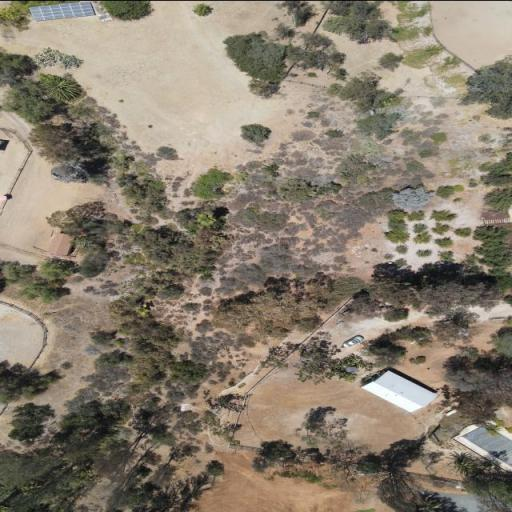solar-panel: (29, 1, 95, 20)
